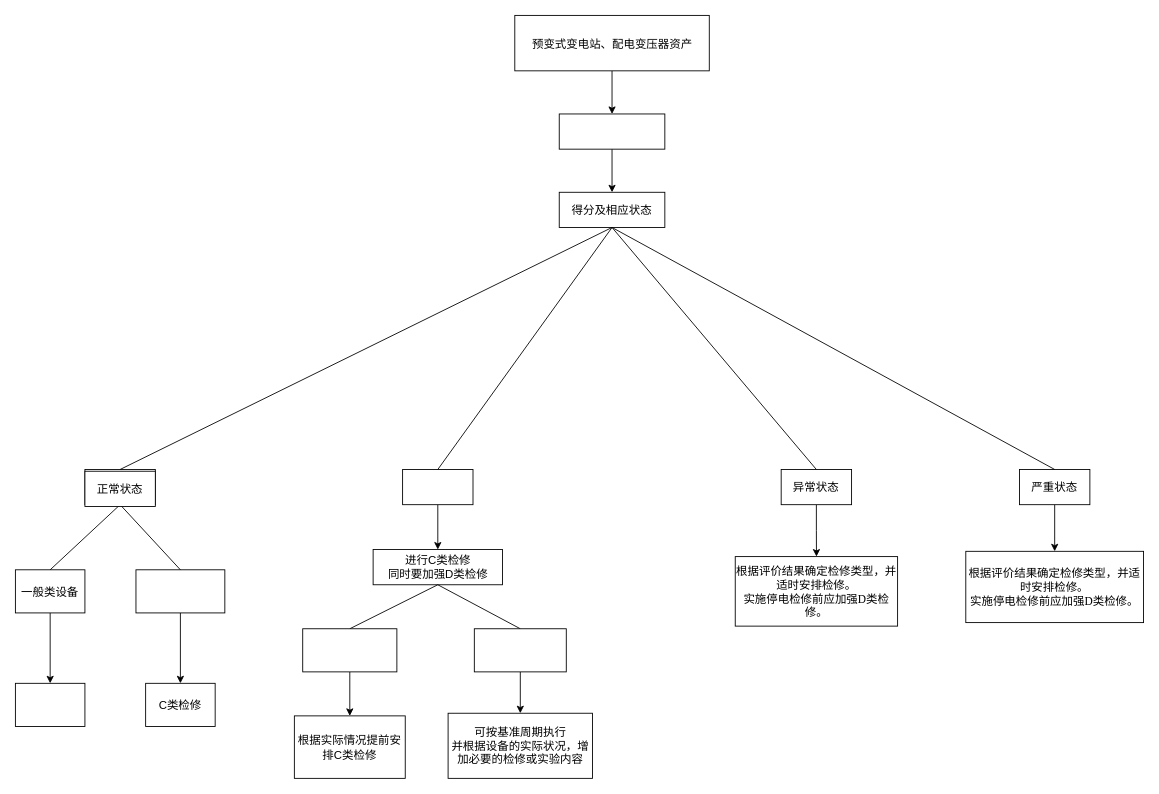
Image size: 1159x794. Some labels were removed from this diagram. The shapes that lost their labels are listed below. From the top down, each one's centre as x and y in pixels, then its label:
pixel 611 131: 评价得分体系
pixel 437 487: 注意状态
pixel 180 591: 重要设备 特别重要设备
pixel 349 650: 因单项状态量扣分导致
pixel 519 650: 仅因多项状态量合计扣分
pixel 50 704: 寿命检修
